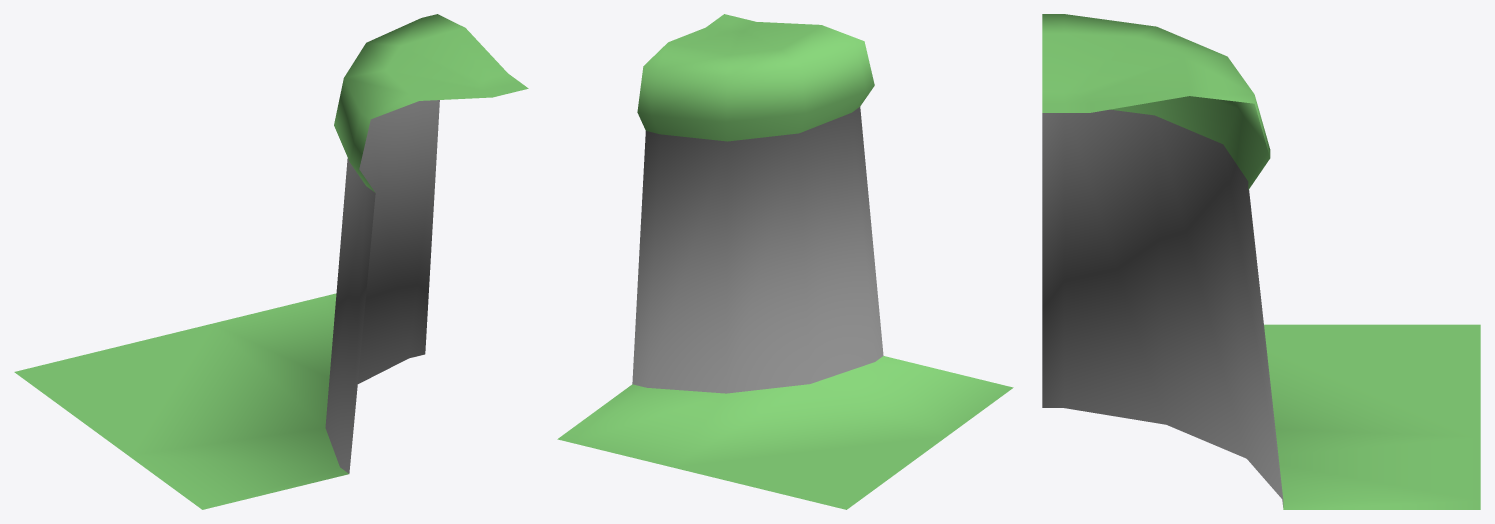
Rendered from tile_mid_cliff_1000.fbx.
3 renders of one model, left to right at view 1: azimuth 30°, elevation 25°; view 2: azimuth 150°, elevation 25°; view 3: azimuth 270°, elevation 25°, orthographic. The views are drawn at different scales.
Parts seen in each view (by area): view 1: tile_mid_cliff_1000; view 2: tile_mid_cliff_1000; view 3: tile_mid_cliff_1000.
Boxes of the visible parts, bbox=[...] form: tile_mid_cliff_1000: bbox=[14, 14, 528, 509]; tile_mid_cliff_1000: bbox=[557, 14, 1013, 509]; tile_mid_cliff_1000: bbox=[1042, 14, 1480, 509].
Size of the model in its own units: 2 by 2.08 by 2.
